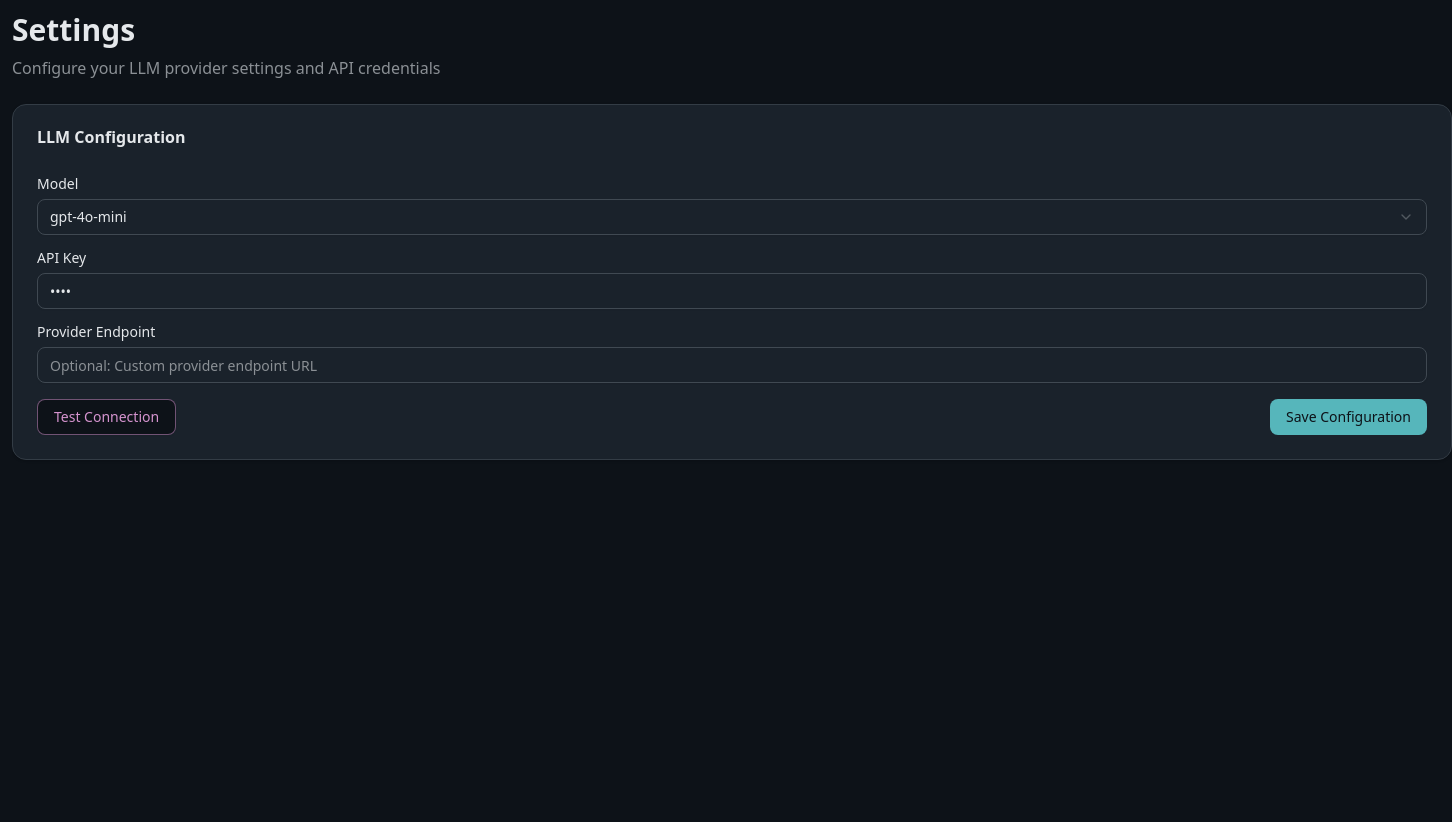
it: Settings Form Save and Validation Integration Test › should display error message when save fails
Type "sk-invalid-key" into the password field labelled "API Key".
click(732, 291); type("sk-invalid-key")  # box x1=37 y1=273 x2=1427 y2=309
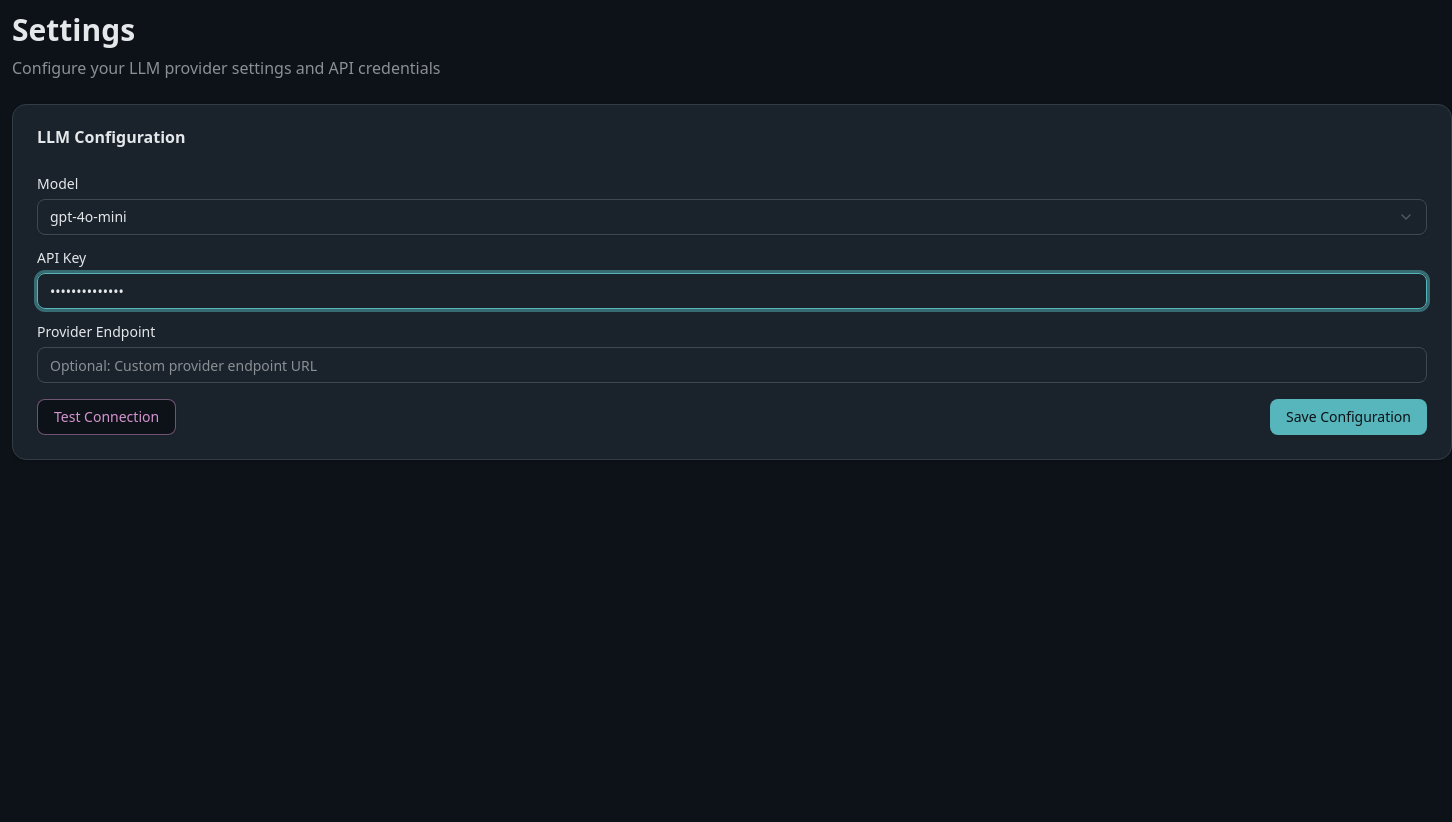
Click the button "Save Configuration".
click(1348, 417)  # box x1=1270 y1=399 x2=1427 y2=435
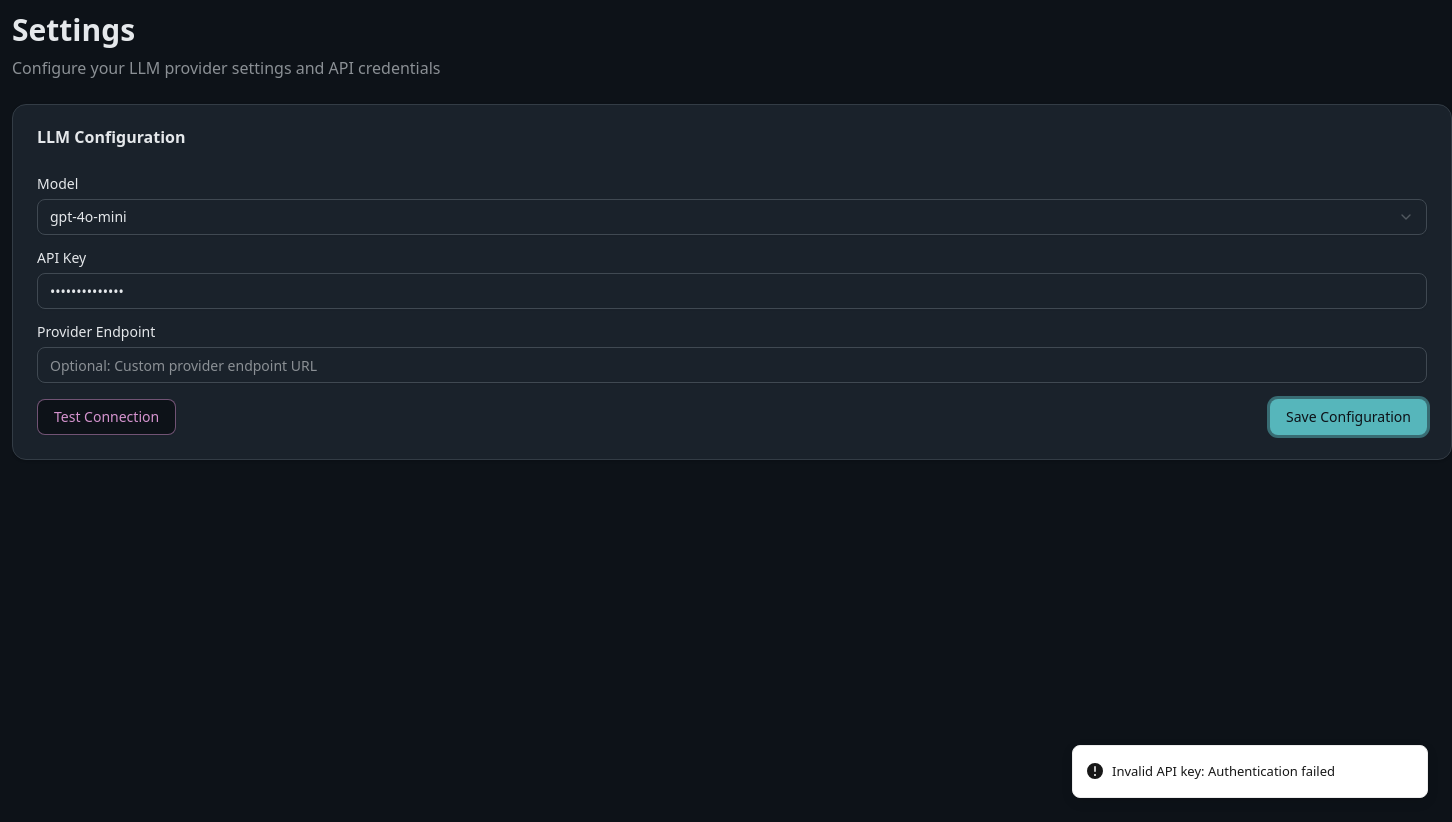
expect the text "Invalid API key: Authentication failed" is shown: met, box x1=1112 y1=762 x2=1335 y2=781
